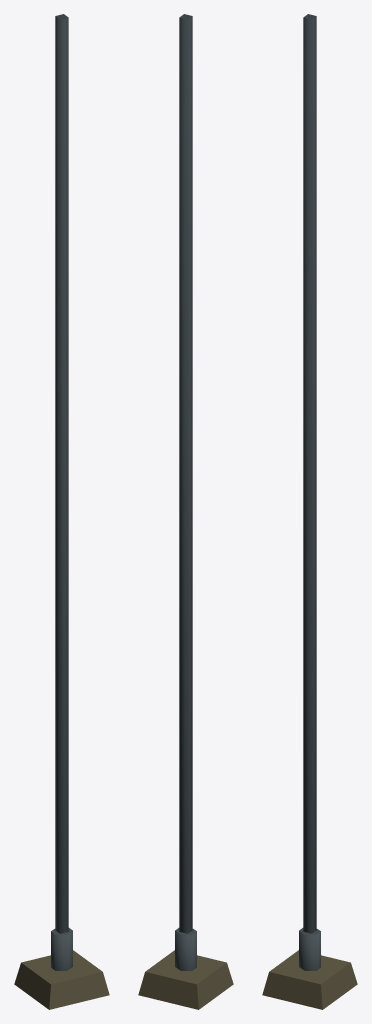
Rendered from SW_PROP_StripLight_PowerCord_01.fbx.
3 renders of one model, left to right at view 1: azimuth 30°, elevation 25°; view 2: azimuth 150°, elevation 25°; view 3: azimuth 330°, elevation 25°, orthographic.
Visible parts, largest first — view 1: SW_PROP_StripLight_PowerCord_01; view 2: SW_PROP_StripLight_PowerCord_01; view 3: SW_PROP_StripLight_PowerCord_01.
Part boxes in pixels (bbox=[...]): SW_PROP_StripLight_PowerCord_01: bbox=[14, 14, 109, 1009]; SW_PROP_StripLight_PowerCord_01: bbox=[138, 14, 233, 1009]; SW_PROP_StripLight_PowerCord_01: bbox=[262, 14, 357, 1009].
Size of the model in its own units: 0.14 by 2.15 by 0.14.
